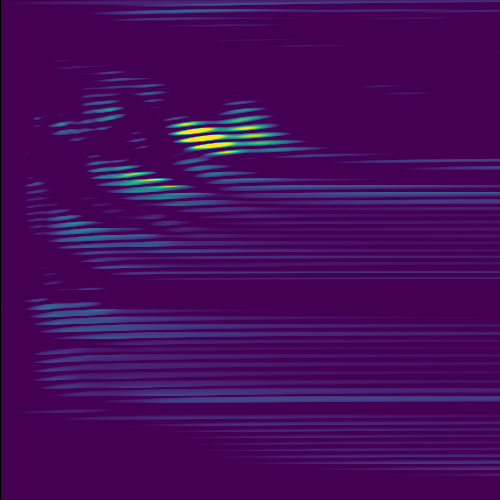semblance: (166, 116, 238, 159)
